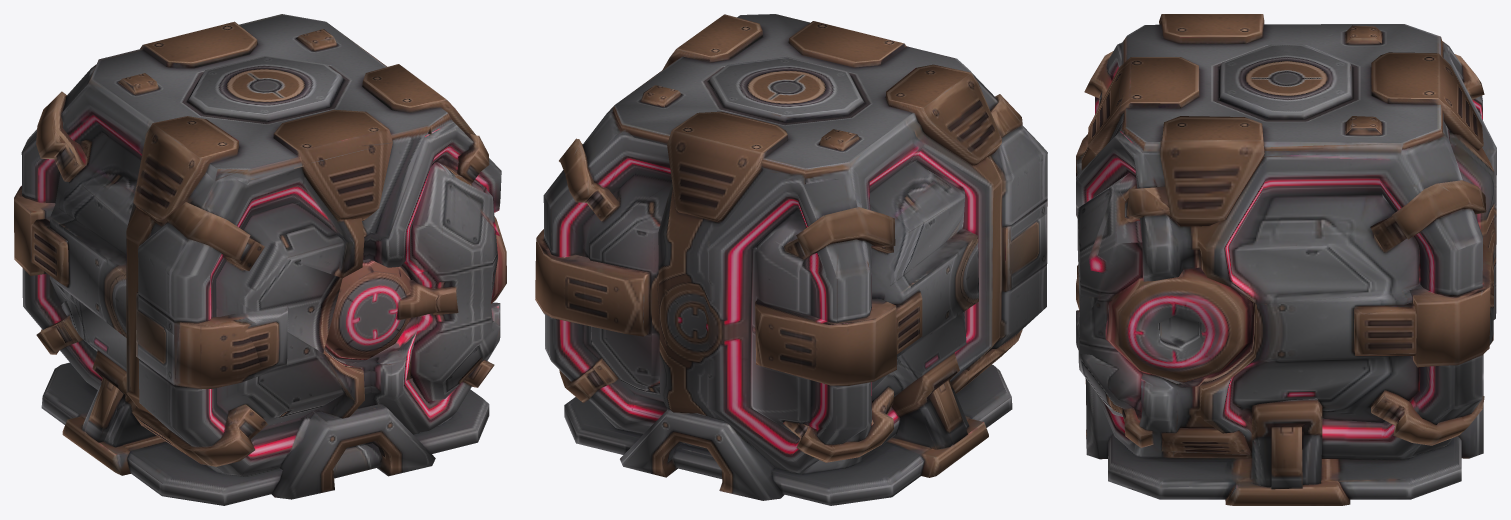
3 views of the same model, side by side, from view 1: azimuth 30°, elevation 25°; view 2: azimuth 150°, elevation 25°; view 3: azimuth 270°, elevation 25° (orthographic). The views are drawn at different scales.
Visible parts, largest first — view 1: Mesh_0; view 2: Mesh_0; view 3: Mesh_0.
Part boxes in pixels (left/top/right/bottom): Mesh_0: left=14, top=14, right=506, bottom=505; Mesh_0: left=535, top=14, right=1047, bottom=505; Mesh_0: left=1076, top=14, right=1496, bottom=505.
Bounding box in the file's own units: 100 × 89.65 × 100.
Materials: 1 (1 with a texture image).
